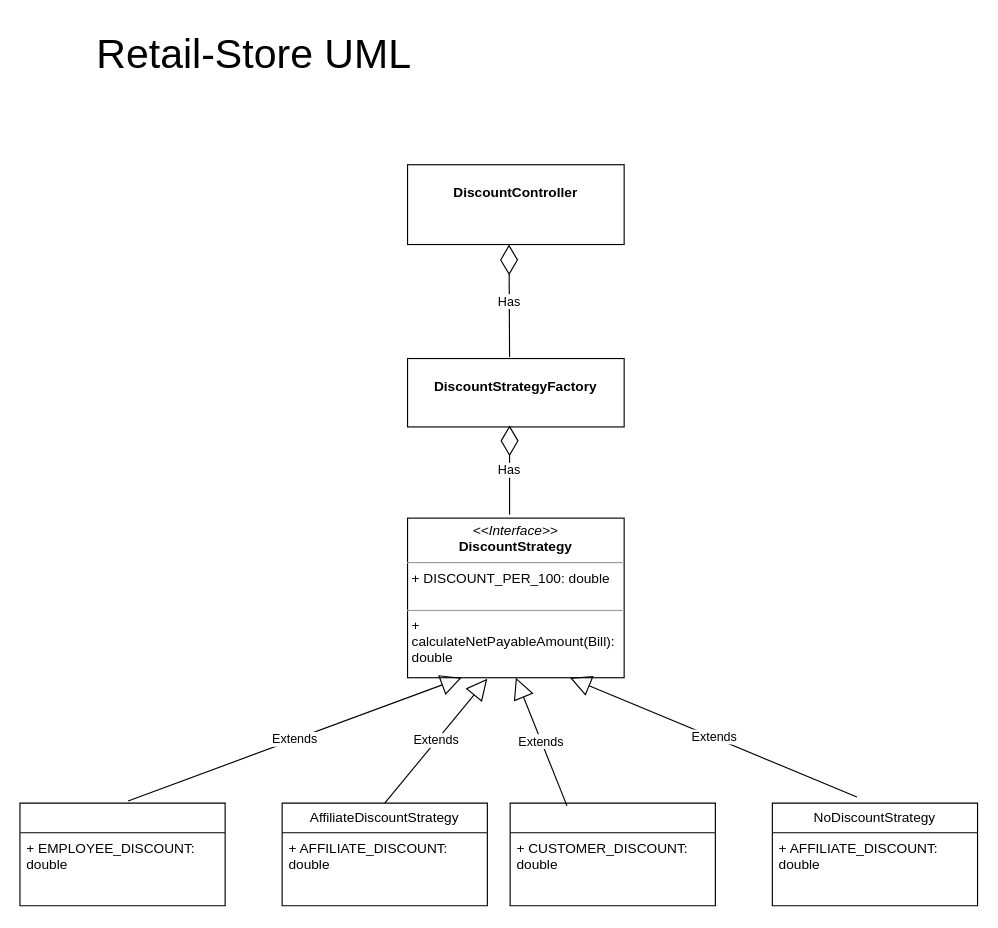
Some shapes in this 998 by 928 pixel diagram are drawn without their labels. Here are the shapes that lost their labels. From the top down, the box of each, then its label:
(19, 802, 225, 906): EmployeeDiscountStrategy
(509, 802, 715, 906): CustomerDiscountStrategy
